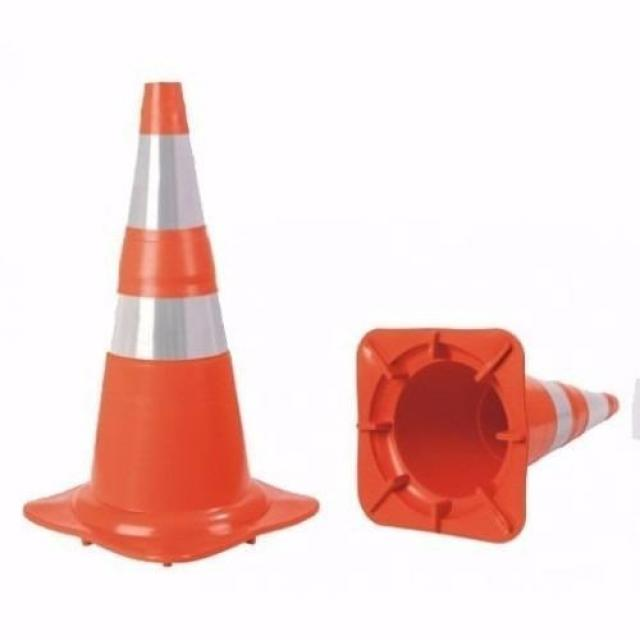cone: (23, 55, 325, 568), (343, 300, 640, 543)
